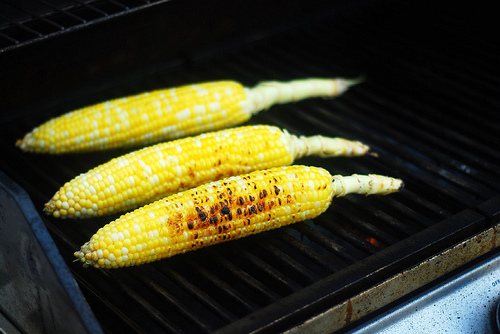corn: (71, 164, 404, 269), (43, 124, 371, 220), (16, 77, 354, 158)
